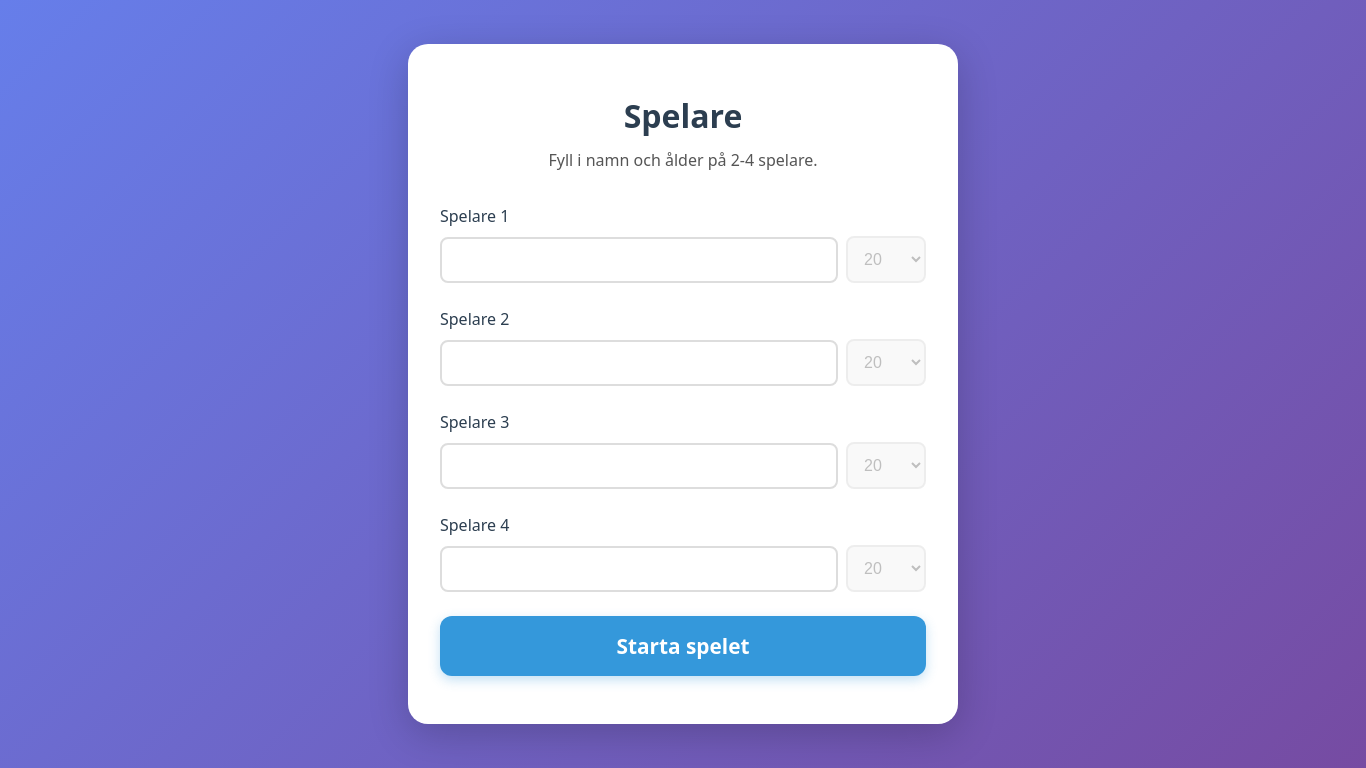
Test: PlayerRegistration › minimum player validation › should show error when less than 2 players are filled in
Type "Kalle" into the field labelled "Spelare 1" at x=639, y=260, box [440,236,838,282]
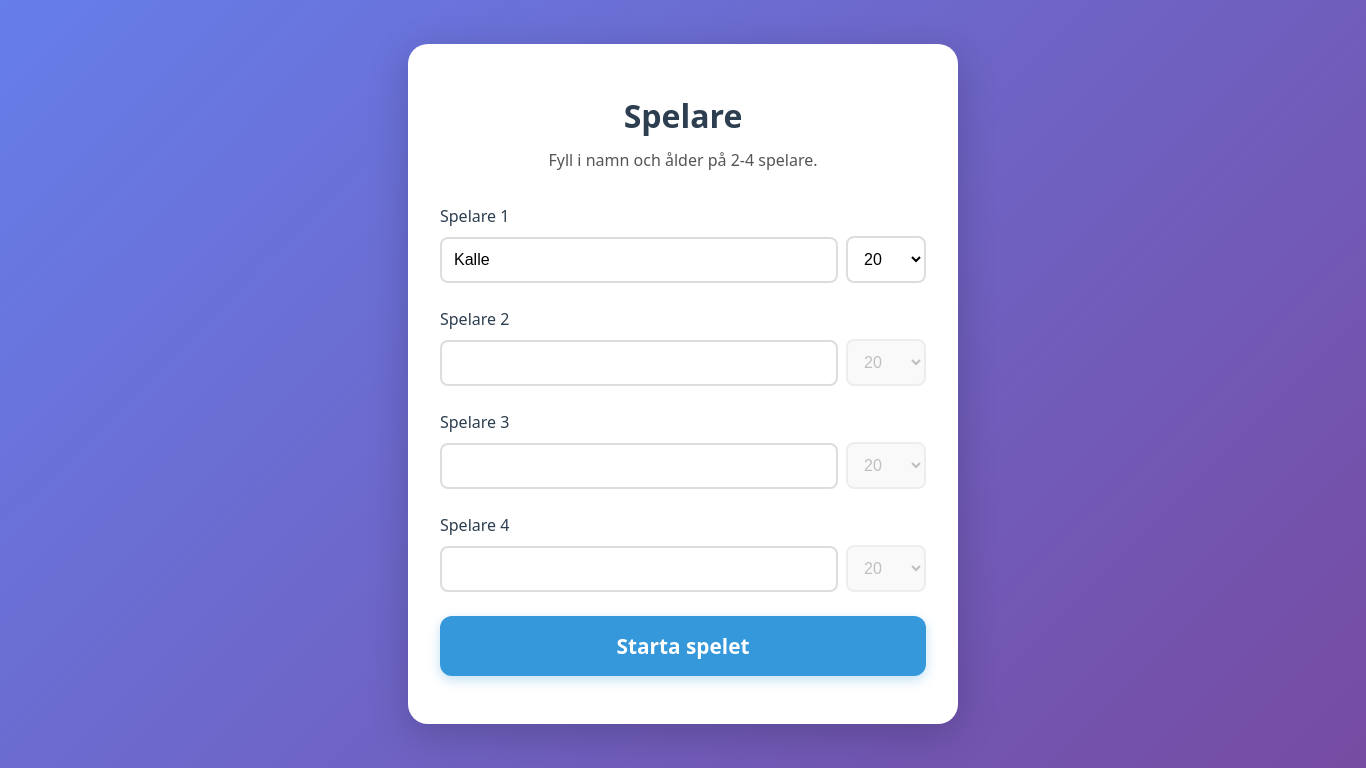
Click the button "Starta spelet" at x=683, y=646, box [440,616,926,676]
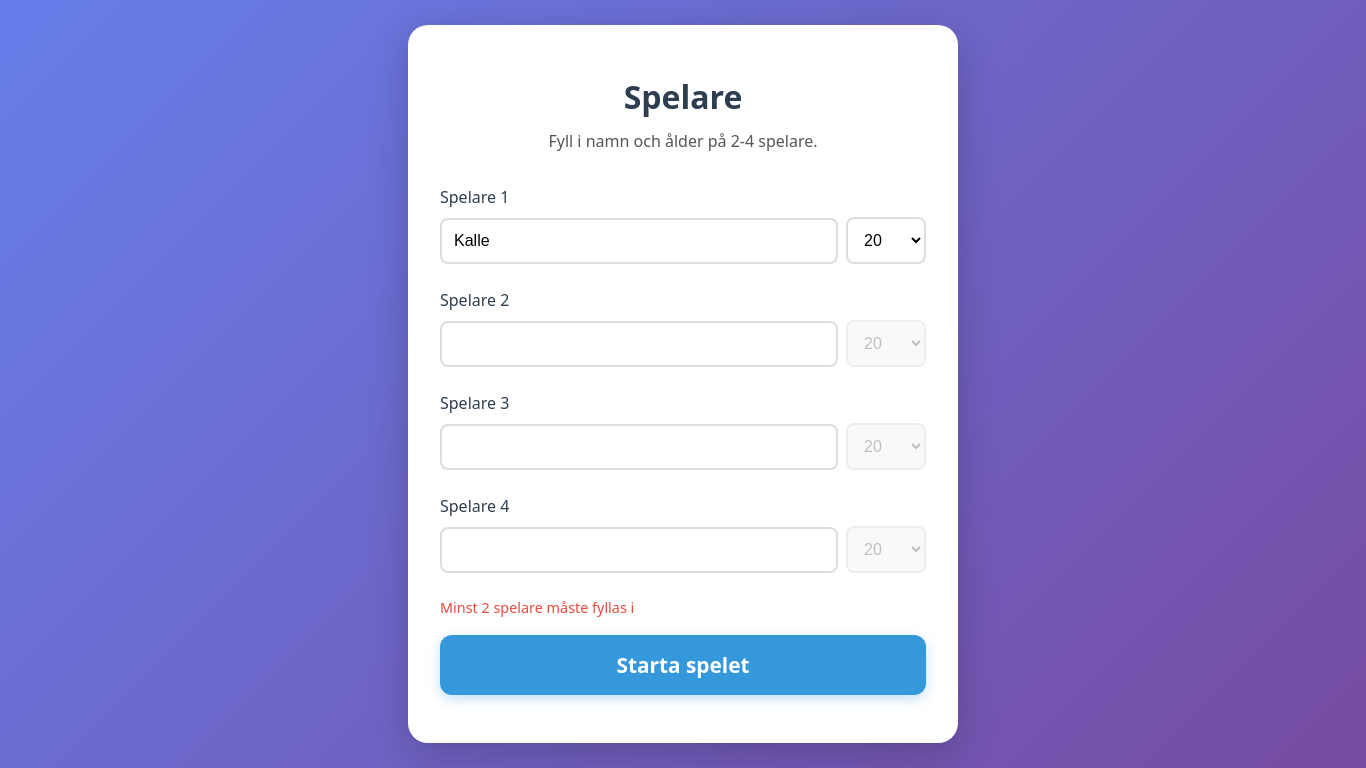
Check: the text "Minst 2 spelare måste fyllas i" is shown, box [440,598,634,617]
